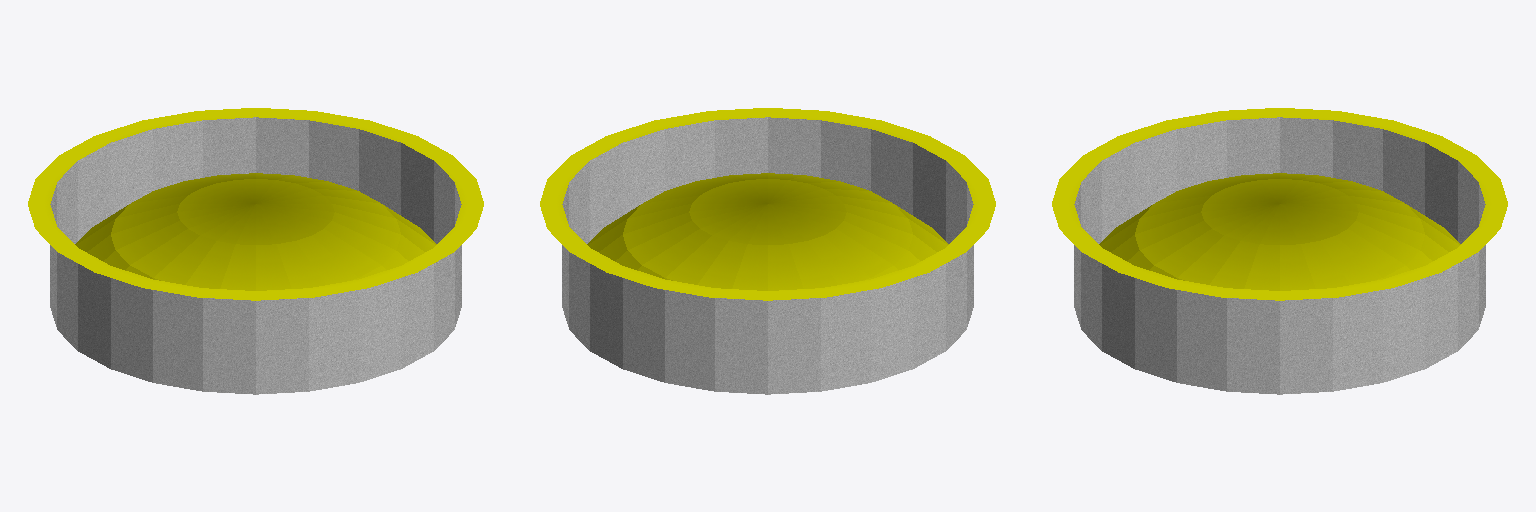
3 views of the same model, side by side, from view 1: azimuth 30°, elevation 25°; view 2: azimuth 150°, elevation 25°; view 3: azimuth 270°, elevation 25° (orthographic).
Parts seen in each view (by area): view 1: S1TopCap; view 2: S1TopCap; view 3: S1TopCap.
Part boxes in pixels (x1,y1,x2,y2): S1TopCap: (28, 108, 483, 394); S1TopCap: (540, 108, 995, 394); S1TopCap: (1052, 108, 1507, 394).
Size of the model in its own units: 1.25 by 0.3125 by 1.25.
Materials: 1 (1 with a texture image).